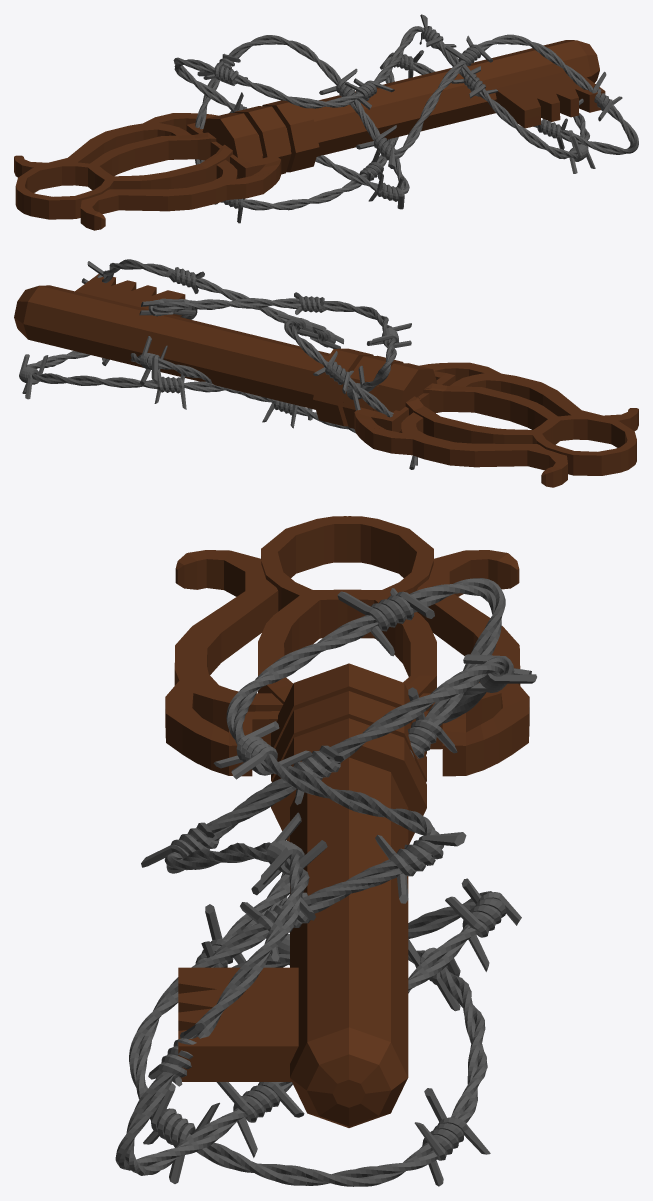
File: KeywithWire (1).fbx
The picture shows the model from 3 angles, top to bottom: view 1: azimuth 30°, elevation 25°; view 2: azimuth 150°, elevation 25°; view 3: azimuth 270°, elevation 25°; orthographic projection. The views are drawn at different scales.
Visible parts, largest first — view 1: Plane, Cylinder.003, Hp_Wire.001, Hp_Wire, Cylinder, Cylinder.002, Cylinder.001; view 2: Plane, Cylinder.003, Hp_Wire, Hp_Wire.001, Cylinder, Cylinder.002, Cylinder.001; view 3: Cylinder.003, Plane, Hp_Wire, Hp_Wire.001, Cylinder, Cylinder.002, Cylinder.001.
Boxes of the visible parts, x1,y1,x2,y2 form: Plane: [14, 113, 281, 230]; Cylinder.003: [258, 40, 605, 157]; Hp_Wire.001: [195, 34, 638, 223]; Hp_Wire: [173, 14, 595, 209]; Cylinder: [262, 100, 319, 172]; Cylinder.002: [202, 113, 262, 178]; Cylinder.001: [234, 106, 291, 174]; Plane: [354, 362, 638, 487]; Cylinder.003: [14, 274, 378, 410]; Hp_Wire: [19, 292, 411, 420]; Hp_Wire.001: [81, 259, 417, 469]; Cylinder: [313, 348, 373, 426]; Cylinder.002: [373, 363, 437, 432]; Cylinder.001: [342, 355, 403, 428]; Cylinder.003: [178, 757, 408, 1127]; Plane: [165, 516, 529, 776]; Hp_Wire: [129, 578, 505, 1186]; Hp_Wire.001: [115, 654, 536, 1175]; Cylinder: [271, 718, 426, 844]; Cylinder.002: [271, 663, 426, 754]; Cylinder.001: [271, 691, 426, 782].
Size of the model in its own units: 20.31 by 4.86 by 6.48.
